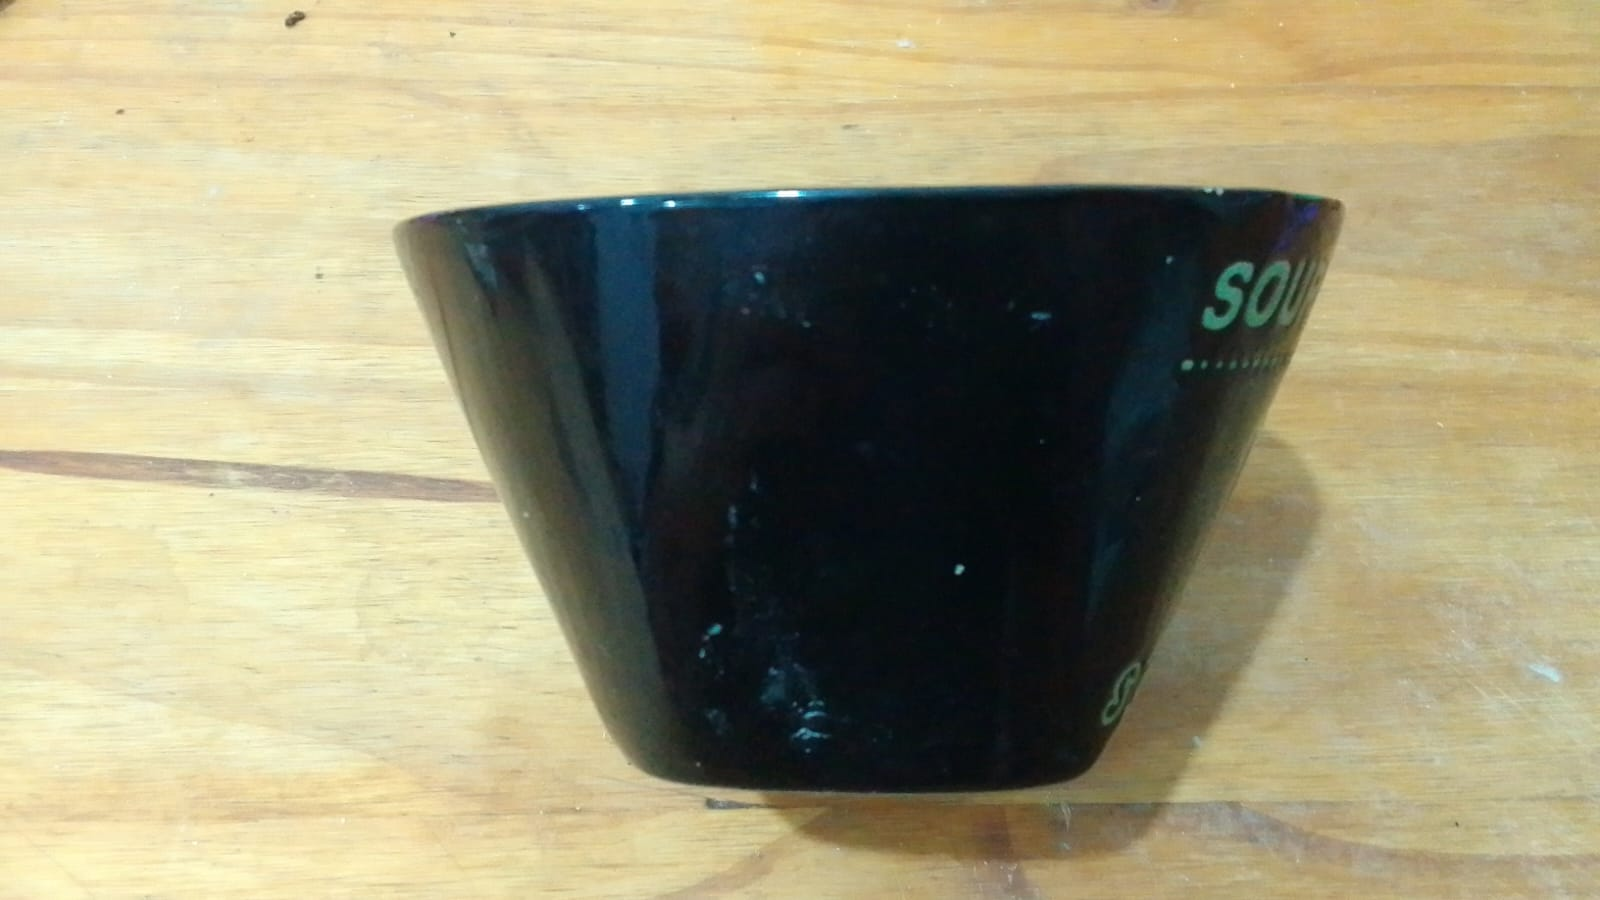dog: (377, 184, 1346, 798)
